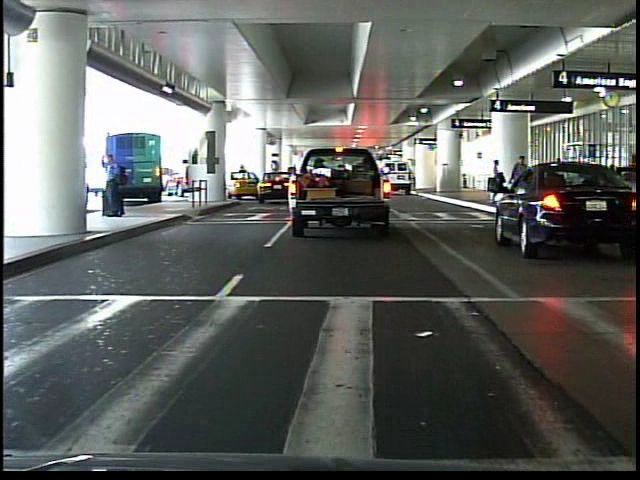person: (101, 151, 130, 224), (487, 155, 513, 210), (510, 152, 531, 208)
